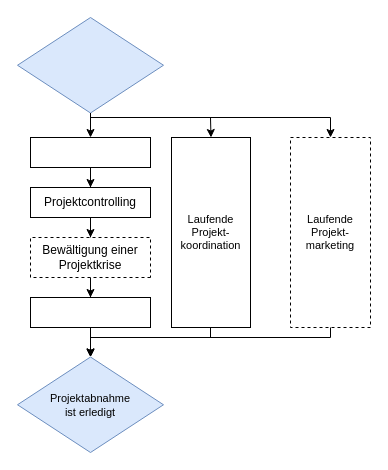
This 388x470 diagram has some shape labels left out. The centre of each missing label's shape, as x and y in pixels:
Projektabschluss: [90,312]
Projektbeauftragung ist erfolgt: [90,64]
Projektstart: [90,152]
